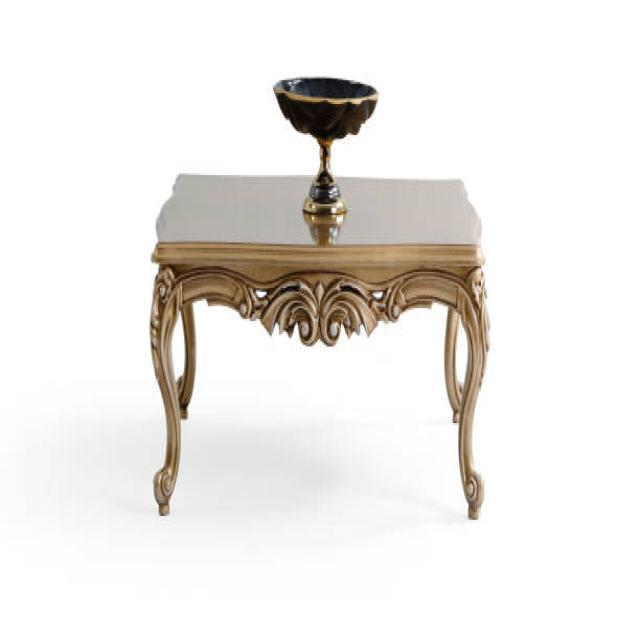table: (148, 170, 490, 520)
